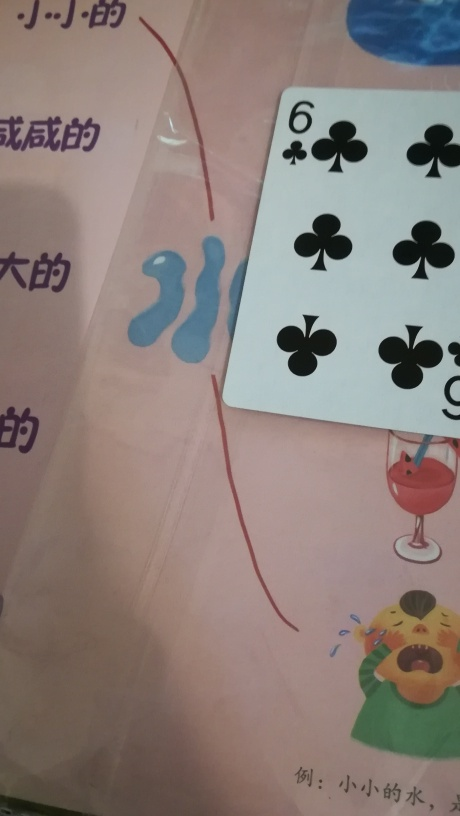mh 6: (221, 83, 460, 431)
